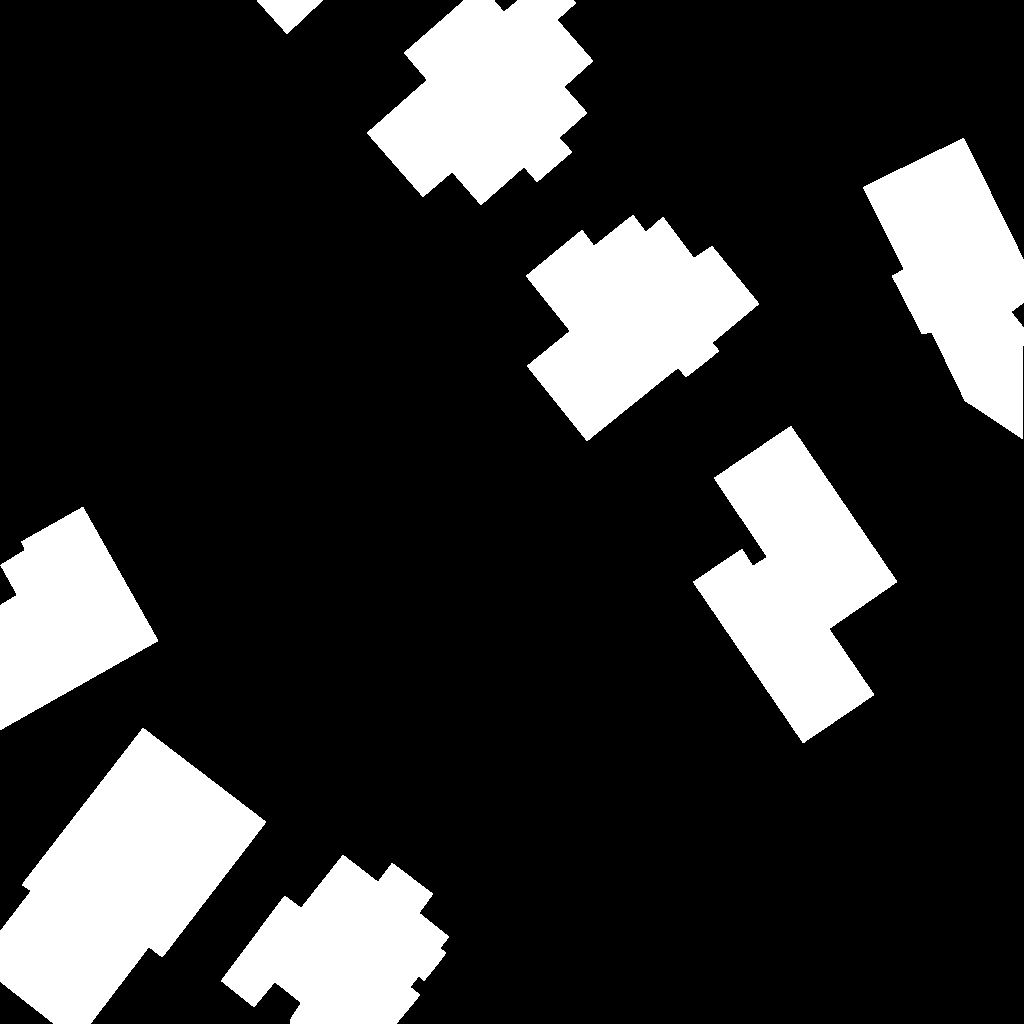building: (0, 728, 267, 1024), (693, 426, 898, 744), (526, 215, 760, 442), (863, 138, 1024, 440), (367, 0, 594, 206), (221, 855, 450, 1024), (0, 507, 159, 731), (256, 0, 324, 35)
